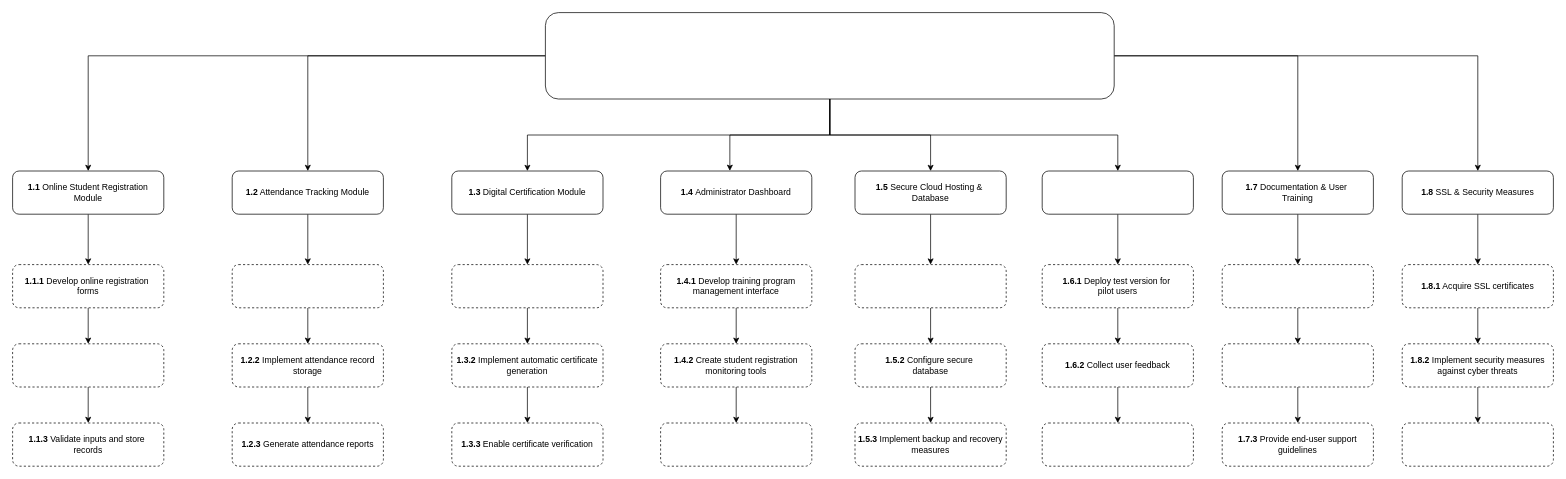
Image size: 1566x479. Some labels were removed from this diagram. Each missing label, with the centre of its shape:
"1.1.2 Connect registration to database" belongs at (88,365).
"1.2.1 Design attendance tracking interface" belongs at (307,286).
"1.3.1 Design digital certificate template" belongs at (527,286).
"1.4.3 Provide report generation functions" belongs at (736,444).
"1.5.1 Procure cloud hosting services" belongs at (930,286).
"1.6 Pilot Deployment & User Feedback" belongs at (1117,192).
"1.6.3 Adjust system based on feedback" belongs at (1117,444).
"1.7.1 Prepare user manuals and technical documentation" belongs at (1297,286).
"1.7.2 Conduct administrator training sessions" belongs at (1297,365).
"1.8.3 Perform vulnerability testing" belongs at (1477,444).
"Online Training Registration and Management System for Samar State University" belongs at (829,55).
